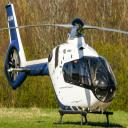helicopter: (5, 4, 124, 127)
